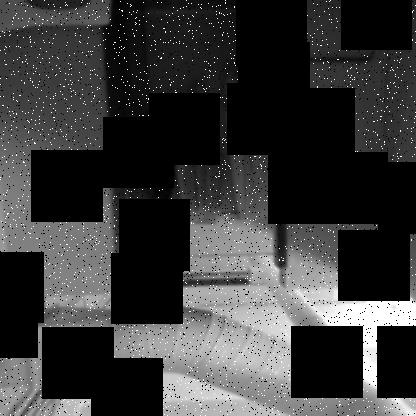Porte: (100, 1, 288, 276)
